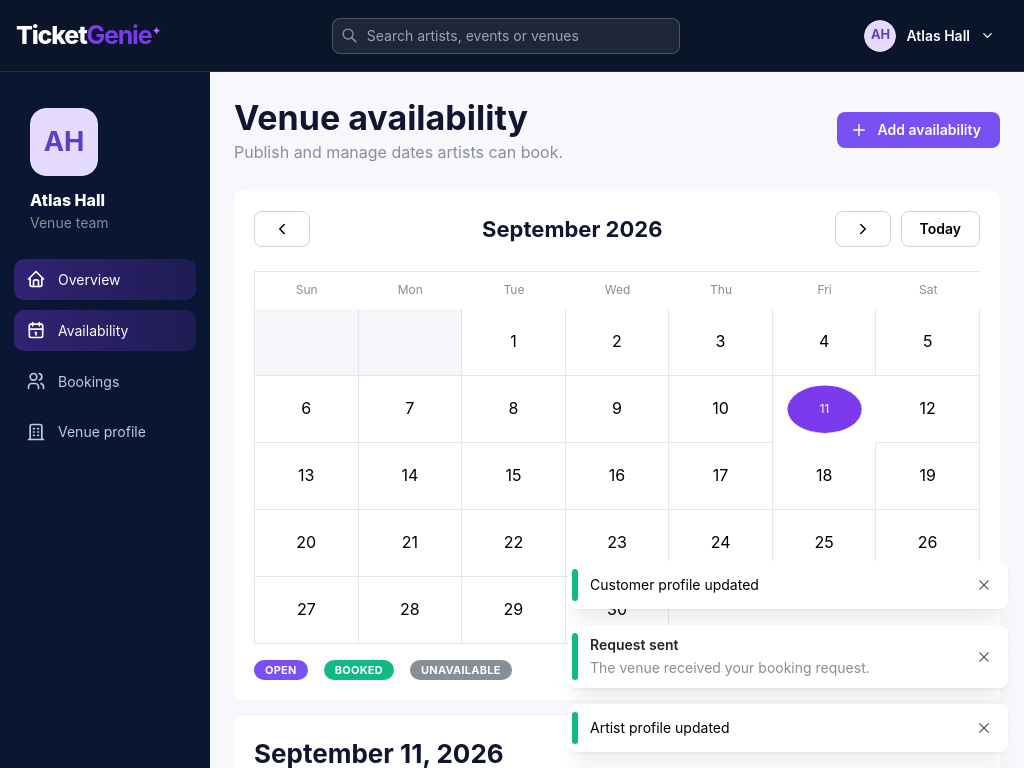
Test: application route smoke coverage › opens the Venue availability form
Expected: the heading "Venue availability" is shown, [234, 96, 563, 140]
Click the button "Add availability": (918, 130) [836, 112, 1000, 148]
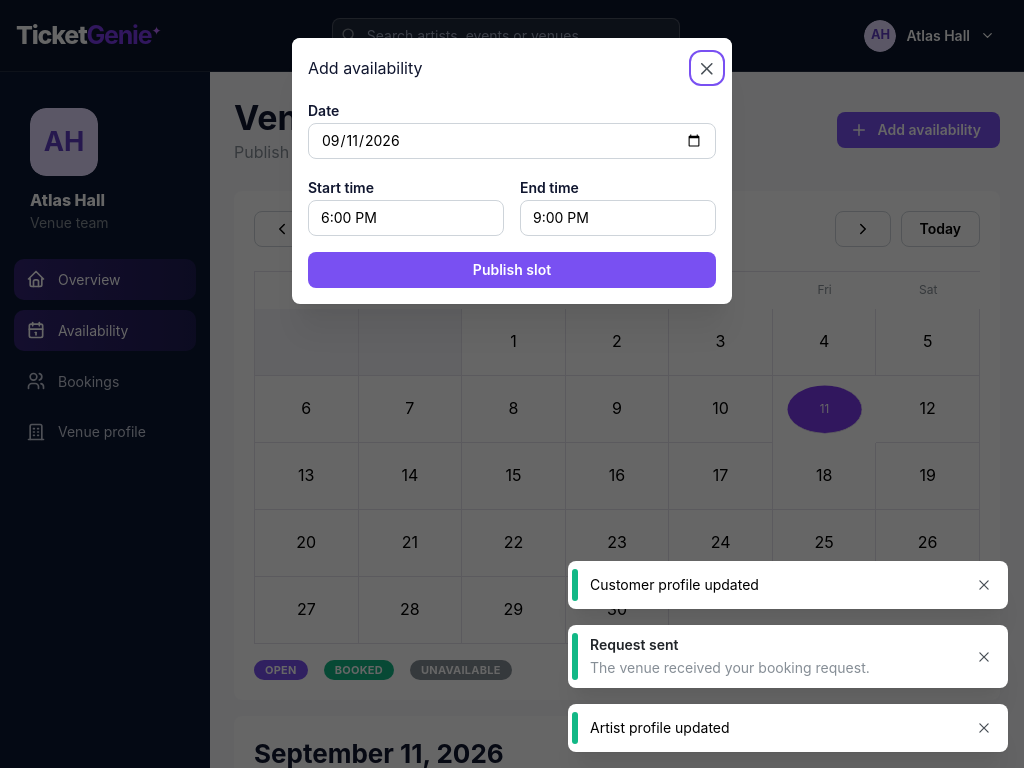
Result: the dialog is shown at [292, 38, 732, 304]
Result: the date field labelled "Date" is shown at [308, 123, 716, 159]
